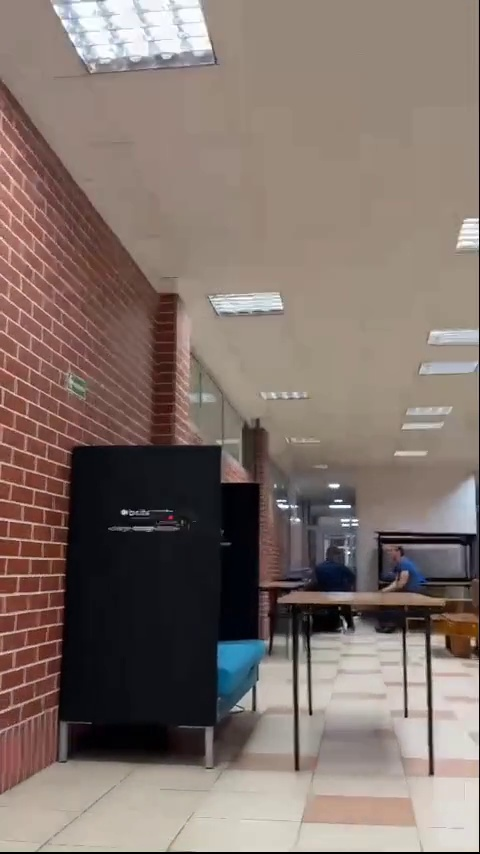drone: (154, 512, 192, 529)
no vest: (385, 542, 426, 592), (314, 545, 354, 593)
